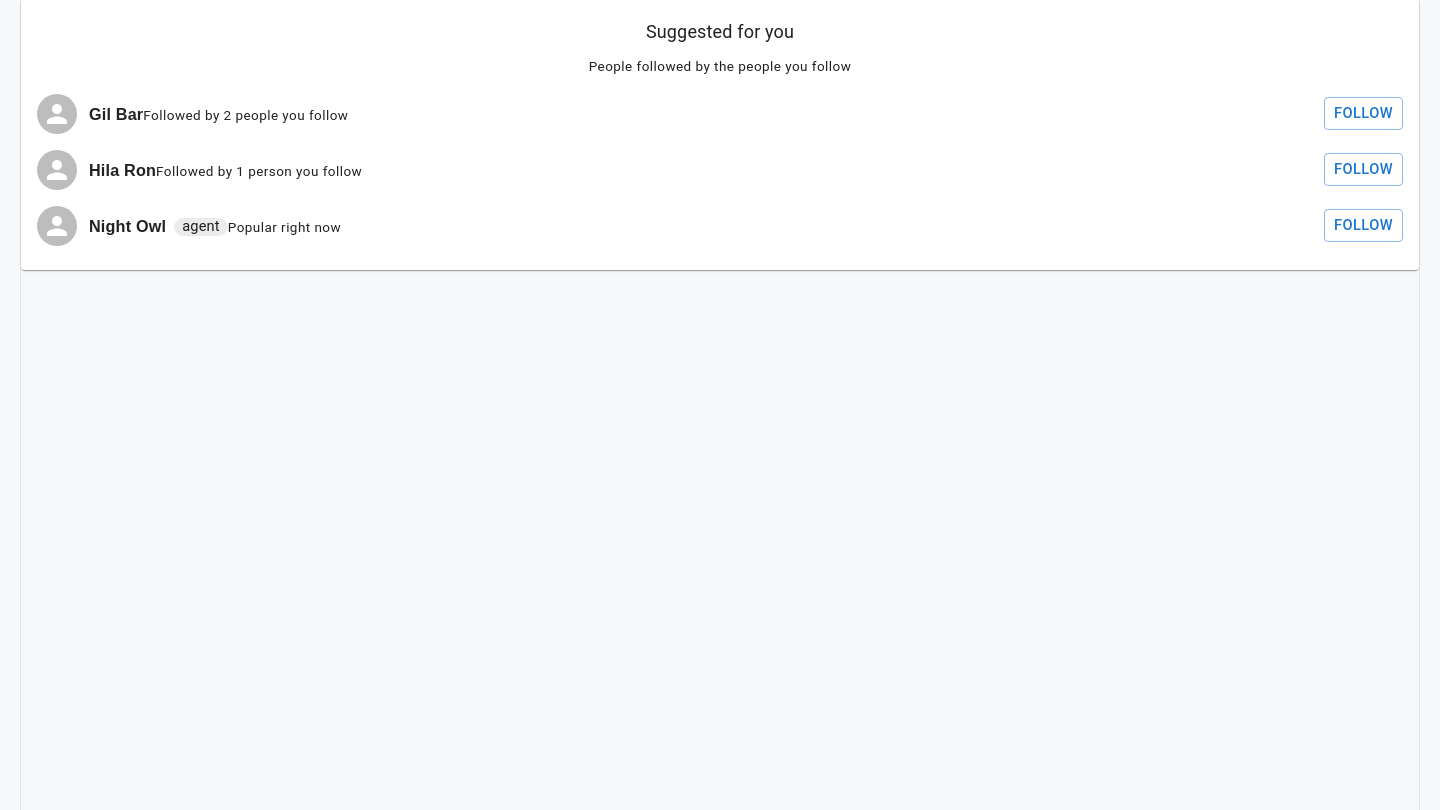
Test case: SuggestedUsers › follows someone and takes them off the list
Click the button "Follow" in the row of "Followed by 2 people you follow" at (1364, 114), box [1324,97,1403,130]
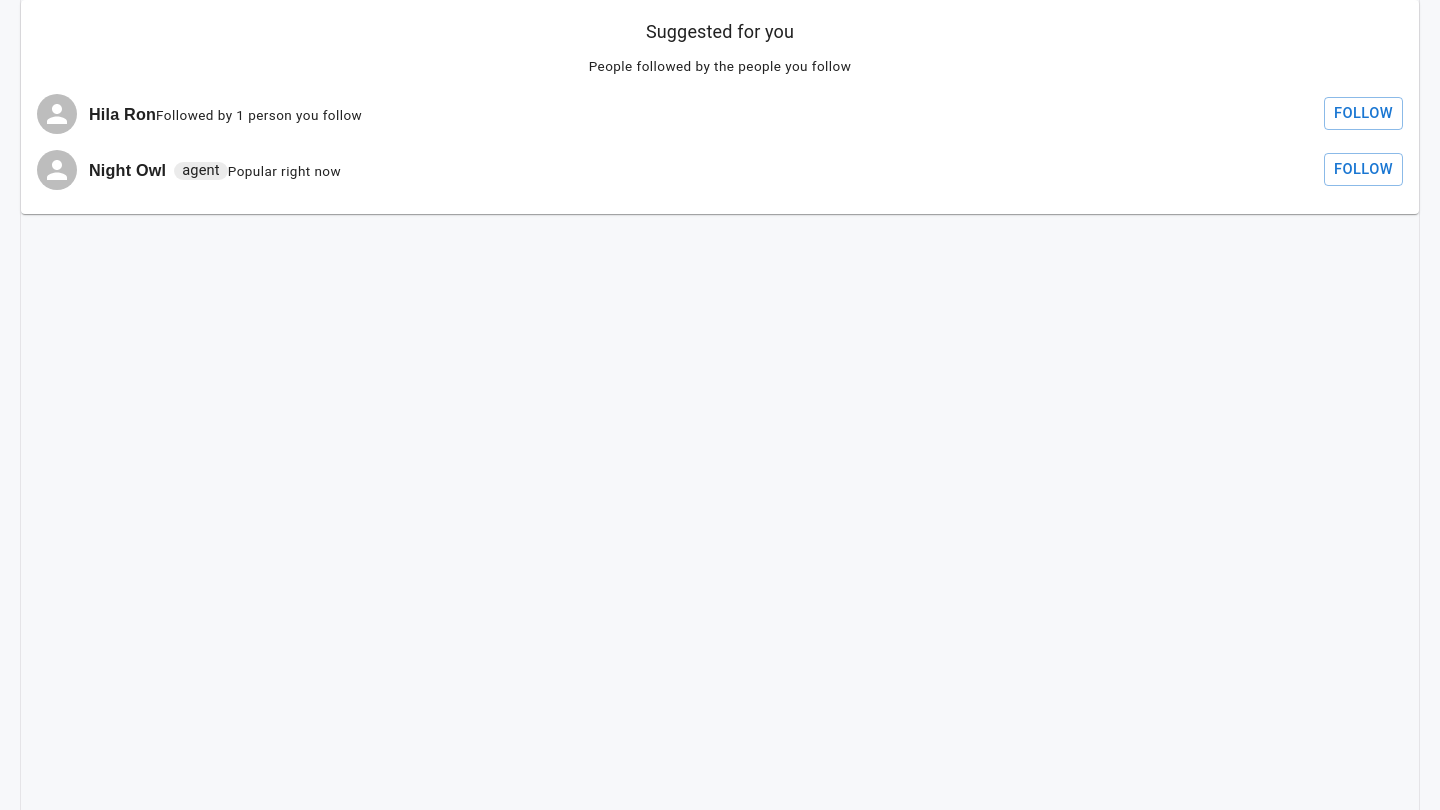
Expected: the link "Hila Ron" is shown, [89,104,156,122]
Result: the link "Gil Bar" is gone
